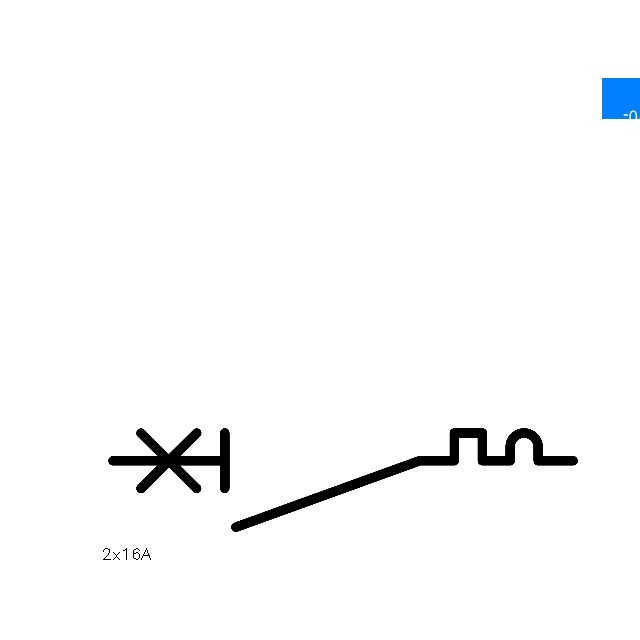interruptor_termomagnetico: (101, 421, 585, 539)
